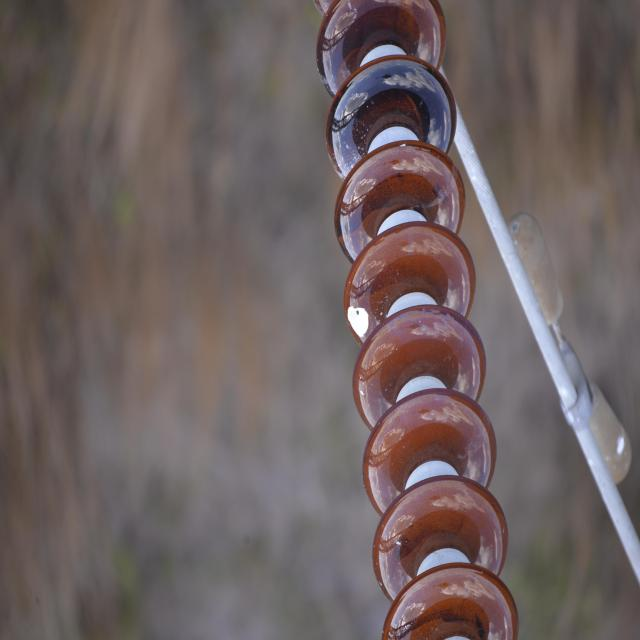broken: (346, 304, 369, 339)
insulator: (314, 3, 524, 633)
